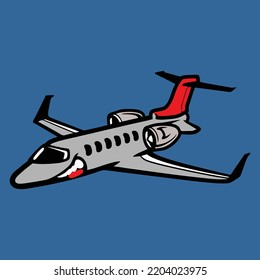airplane: (11, 70, 250, 193)
